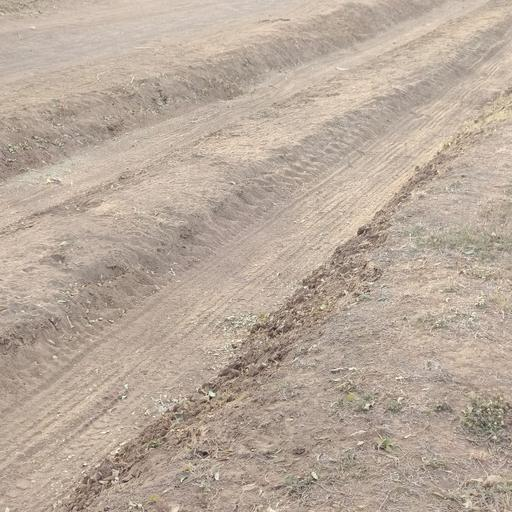vehicle_track: (0, 34, 512, 512), (0, 0, 495, 233)
